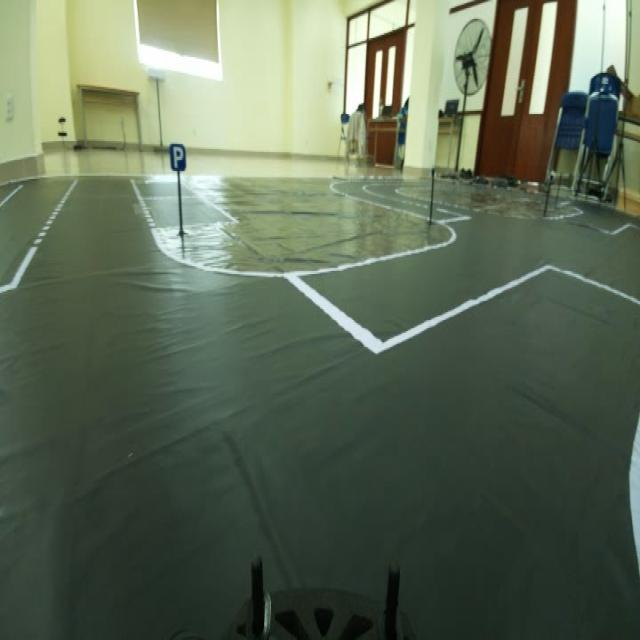parking: (168, 140, 194, 180)
